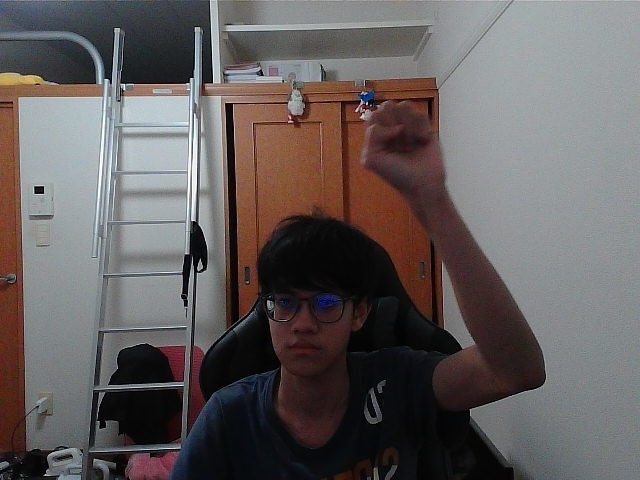closed_palm: (377, 111, 425, 181)
